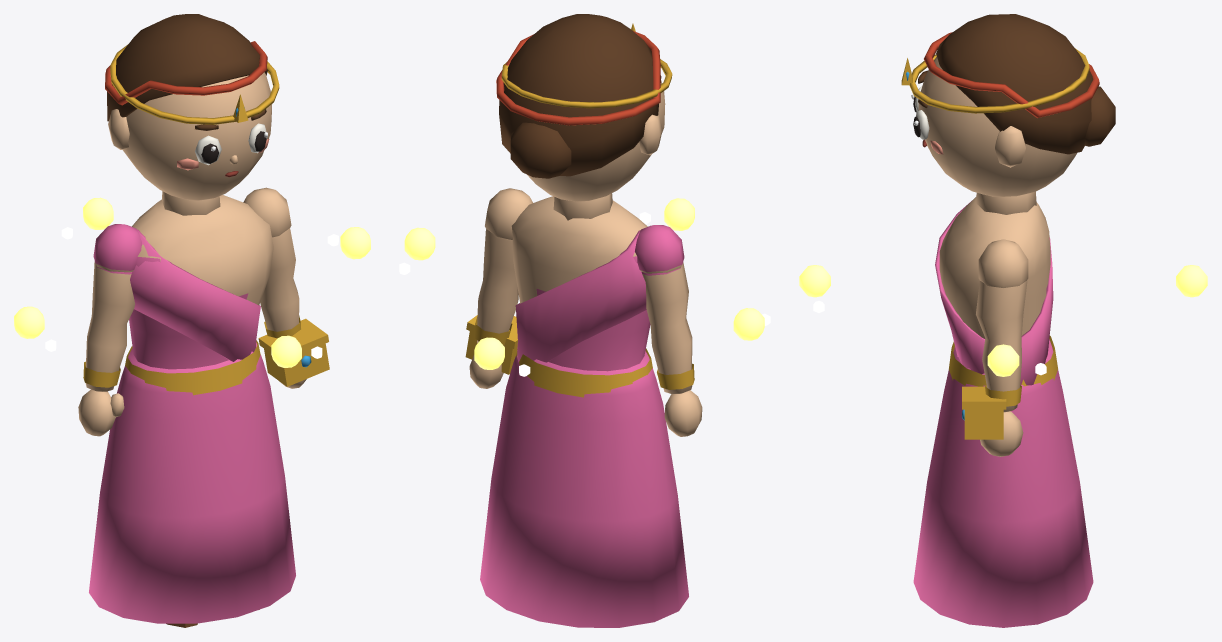
The model's file is pandora.glb.
3 renders of one model, left to right at view 1: azimuth 30°, elevation 25°; view 2: azimuth 150°, elevation 25°; view 3: azimuth 270°, elevation 25°, orthographic.
Parts seen in each view (by area): view 1: huefte, rumpf, kopf, haare, armL, armR, vfx_orbs, itemR, kopfschmuck, augeL; view 2: huefte, rumpf, haare, armL, armR, kopf, vfx_orbs, kopfschmuck, itemR; view 3: huefte, haare, rumpf, kopf, armR, vfx_orbs, itemR, kopfschmuck.
Boxes of the visible parts, left/top/right/bottom form: huefte: left=89, top=342, right=295, bottom=623; rumpf: left=125, top=195, right=273, bottom=395; kopf: left=108, top=72, right=271, bottom=215; haare: left=105, top=14, right=267, bottom=121; armL: left=78, top=224, right=141, bottom=436; armR: left=243, top=187, right=306, bottom=388; vfx_orbs: left=14, top=197, right=370, bottom=367; itemR: left=258, top=318, right=329, bottom=386; kopfschmuck: left=110, top=44, right=279, bottom=124; augeL: left=195, top=135, right=221, bottom=165; huefte: left=480, top=351, right=688, bottom=627; rumpf: left=511, top=196, right=652, bottom=397; haare: left=496, top=14, right=661, bottom=178; armL: left=635, top=225, right=702, bottom=436; armR: left=469, top=188, right=532, bottom=388; kopf: left=527, top=80, right=665, bottom=220; vfx_orbs: left=399, top=198, right=770, bottom=376; kopfschmuck: left=501, top=23, right=672, bottom=108; itemR: left=465, top=315, right=517, bottom=374; huefte: left=913, top=339, right=1093, bottom=627; haare: left=924, top=14, right=1115, bottom=154; rumpf: left=935, top=197, right=1057, bottom=386; kopf: left=918, top=56, right=1076, bottom=214; armR: left=976, top=239, right=1028, bottom=456; vfx_orbs: left=799, top=207, right=1207, bottom=376; itemR: left=962, top=386, right=1006, bottom=439; kopfschmuck: left=901, top=48, right=1089, bottom=113.
Bounding box in the file's own units: 1.47 × 2.29 × 1.47.
